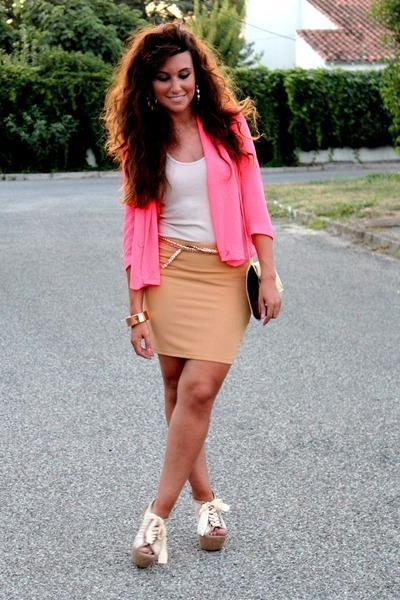jacket: (119, 102, 277, 292)
skirt: (137, 238, 260, 370)
vest: (158, 150, 220, 246)
